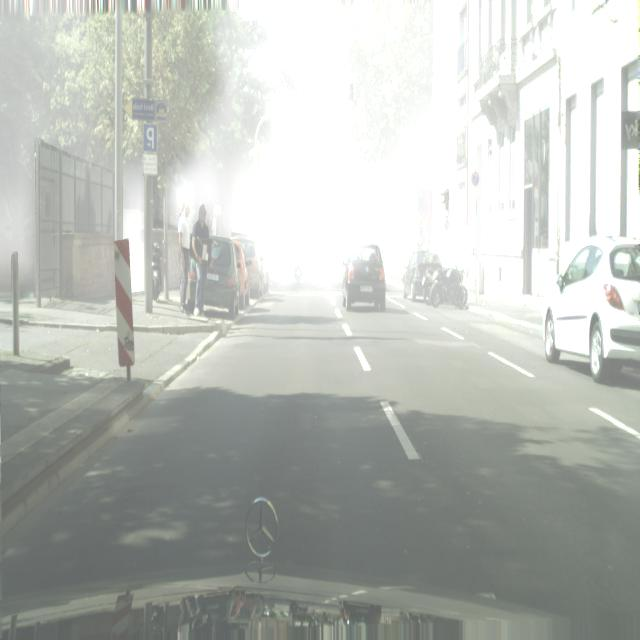bus: (289, 243, 307, 291)
person: (191, 204, 212, 318), (178, 199, 192, 314)
truck: (542, 235, 640, 381), (202, 236, 250, 319), (342, 242, 386, 312), (229, 232, 269, 301), (402, 249, 442, 301)
